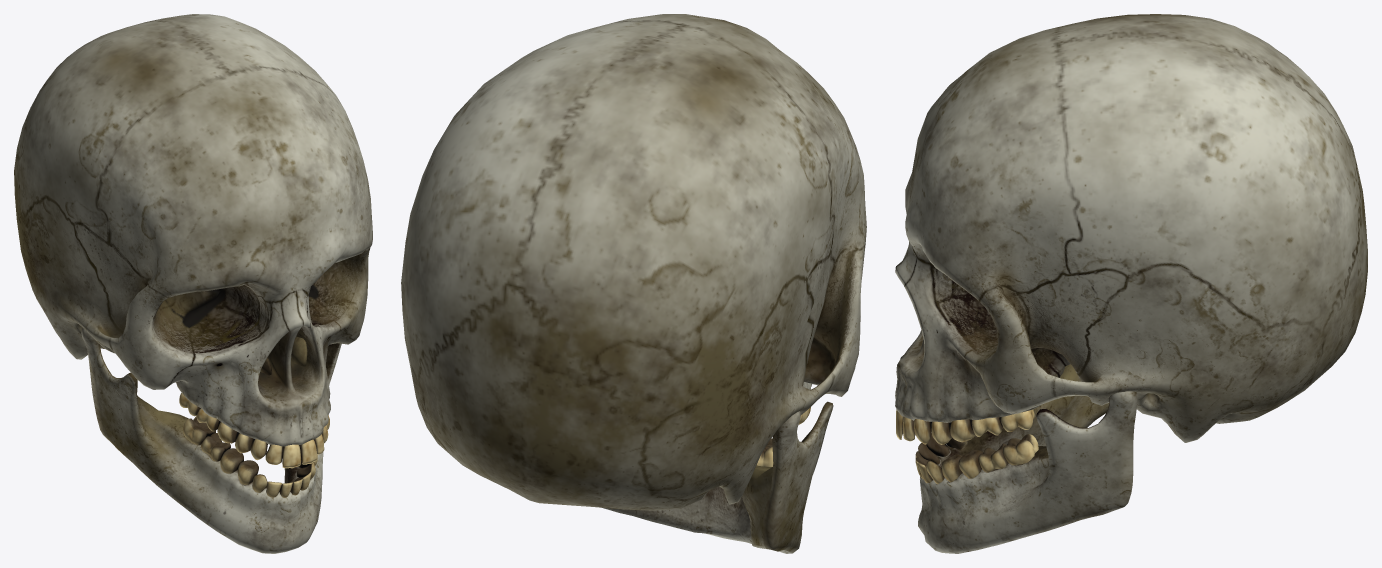
The picture shows the model from 3 angles, left to right: view 1: azimuth 30°, elevation 25°; view 2: azimuth 150°, elevation 25°; view 3: azimuth 270°, elevation 25°; orthographic projection. The views are drawn at different scales.
Parts seen in each view (by area): view 1: retopo upper.005, retopo lower, 1incisor tooth, molar tooth2.001, shikotu, molar tooth1.001, premolar tooth1.001, 2incisor tooth2, premlar tooth2.001, canine tooth.001; view 2: retopo upper.005, retopo lower; view 3: retopo upper.005, retopo lower, molar tooth2.001, premolar tooth1.001.
Boxes of the visible parts, box(x1,y1,x2,y2) form: retopo upper.005: box(14, 14, 372, 446); retopo lower: box(81, 328, 341, 553); 1incisor tooth: box(282, 439, 317, 468); molar tooth2.001: box(183, 416, 215, 445); shikotu: box(260, 336, 307, 375); molar tooth1.001: box(201, 433, 230, 461); premolar tooth1.001: box(237, 455, 317, 484); 2incisor tooth2: box(265, 434, 324, 464); premlar tooth2.001: box(220, 448, 243, 473); canine tooth.001: box(252, 462, 315, 492); retopo upper.005: box(401, 14, 866, 510); retopo lower: box(602, 401, 833, 553); retopo upper.005: box(895, 14, 1367, 442); retopo lower: box(918, 364, 1137, 553); molar tooth2.001: box(1002, 434, 1038, 465); premolar tooth1.001: box(941, 437, 966, 482).
Size of the model in its own units: 1.7 by 2.76 by 2.33.
Materials: 3 (3 with a texture image).
